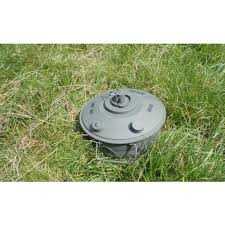car: (64, 76, 185, 167)
